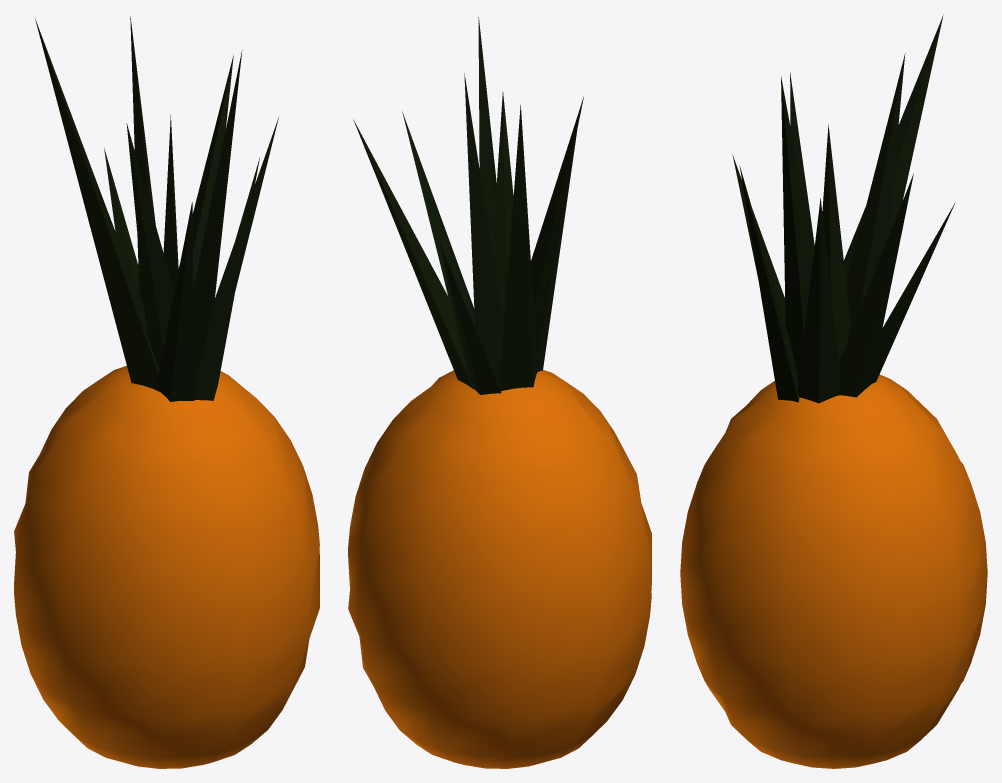
File: Fruit_Pineapple.fbx
3 renders of one model, left to right at view 1: azimuth 30°, elevation 25°; view 2: azimuth 150°, elevation 25°; view 3: azimuth 270°, elevation 25°, orthographic.
Visible parts, largest first — view 1: pasted__pSphere3; view 2: pasted__pSphere3; view 3: pasted__pSphere3.
Part boxes in pixels (x1,y1,x2,y2): pasted__pSphere3: [14, 16, 319, 768]; pasted__pSphere3: [348, 17, 651, 768]; pasted__pSphere3: [680, 14, 987, 768].
Bounding box in the file's own units: 0.5227 × 1.33 × 0.5315.
